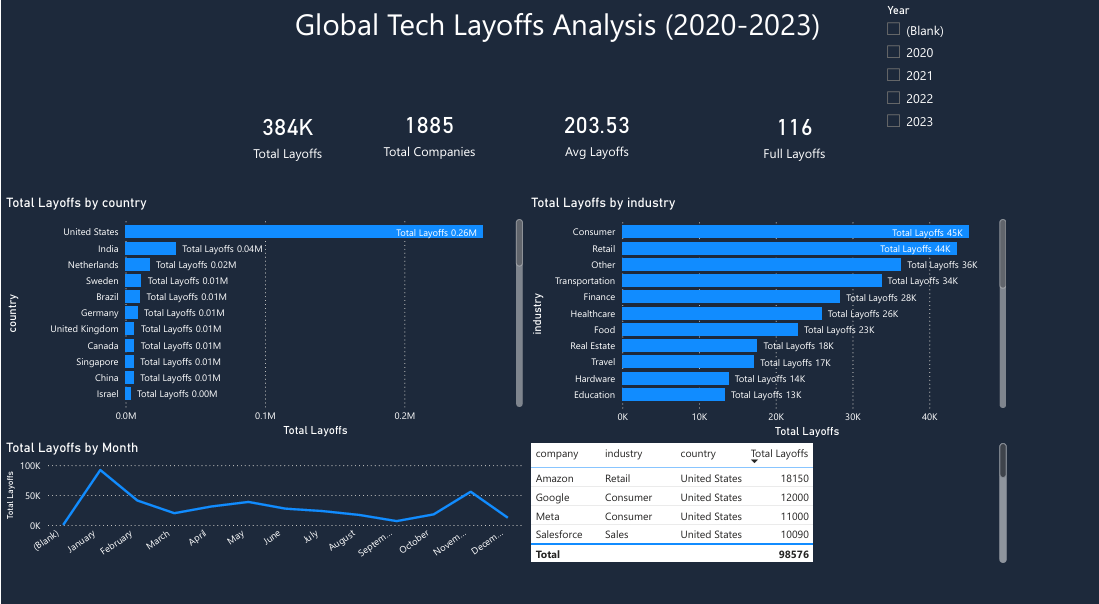

The page's visual inventory and layout, read from the dashboard file:
{"tool":"powerbi","page":{"name":"Page 1","canvas":[1280,720],"ordinal":0},"visuals":[{"type":"textbox","box":[278,0,856,90],"z":0},{"type":"card","fields":{"Values":["world_layoffs layoffs_staging2.Total Layoffs"]},"box":[278,90,170,158],"z":1000},{"type":"card","fields":{"Values":["world_layoffs layoffs_staging2.Total Companies"]},"box":[447.4,89.7,192.3,157.7],"z":2000},{"type":"card","fields":{"Values":["world_layoffs layoffs_staging2.Avg Layoffs"]},"box":[635.9,89.7,239.7,157.7],"z":3000},{"type":"card","fields":{"Values":["world_layoffs layoffs_staging2.Full Layoffs"]},"box":[876.7,90,256.7,158.3],"z":4000},{"type":"clusteredBarChart","fields":{"Category":["world_layoffs layoffs_staging2.country"],"Y":["world_layoffs layoffs_staging2.Total Layoffs"]},"box":[0,246,666,312],"z":5000},{"type":"clusteredBarChart","fields":{"Category":["world_layoffs layoffs_staging2.industry"],"Y":["world_layoffs layoffs_staging2.Total Layoffs"]},"box":[666.7,246.7,613.3,311.1],"z":6000},{"type":"lineChart","fields":{"Category":["world_layoffs layoffs_staging2.date.Variation.Date Hierarchy.Month"],"Y":["world_layoffs layoffs_staging2.Total Layoffs"]},"box":[0,558,666,162],"z":7000},{"type":"tableEx","fields":{"Values":["world_layoffs layoffs_staging2.company","world_layoffs layoffs_staging2.industry","world_layoffs layoffs_staging2.country","world_layoffs layoffs_staging2.Total Layoffs"]},"box":[666,558,614,162],"z":8000},{"type":"slicer","fields":{"Values":["world_layoffs layoffs_staging2.date.Variation.Date Hierarchy.Year"]},"box":[1111.1,0,124.4,202.2],"z":9000}]}

Visuals, with their boxes in screenshot pixels (x1, y1, x2, y2), scaled from the page's 1280x720 canvas onto the 1099x604 screenshot:
textbox: (left=239, top=0, right=974, bottom=76)
card - world_layoffs layoffs_staging2.Total Layoffs: (left=239, top=76, right=385, bottom=208)
card - world_layoffs layoffs_staging2.Total Companies: (left=384, top=75, right=549, bottom=208)
card - world_layoffs layoffs_staging2.Avg Layoffs: (left=546, top=75, right=752, bottom=208)
card - world_layoffs layoffs_staging2.Full Layoffs: (left=753, top=76, right=973, bottom=208)
clusteredBarChart - world_layoffs layoffs_staging2.country x world_layoffs layoffs_staging2.Total Layoffs: (left=0, top=206, right=572, bottom=468)
clusteredBarChart - world_layoffs layoffs_staging2.industry x world_layoffs layoffs_staging2.Total Layoffs: (left=572, top=207, right=1098, bottom=468)
lineChart - world_layoffs layoffs_staging2.date.Variation.Date Hierarchy.Month x world_layoffs layoffs_staging2.Total Layoffs: (left=0, top=468, right=572, bottom=603)
tableEx - world_layoffs layoffs_staging2.company x world_layoffs layoffs_staging2.industry: (left=572, top=468, right=1098, bottom=603)
slicer - world_layoffs layoffs_staging2.date.Variation.Date Hierarchy.Year: (left=954, top=0, right=1061, bottom=170)
